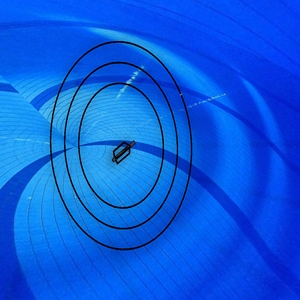circle: (45, 34, 197, 254)
submarine: (110, 140, 141, 167)
